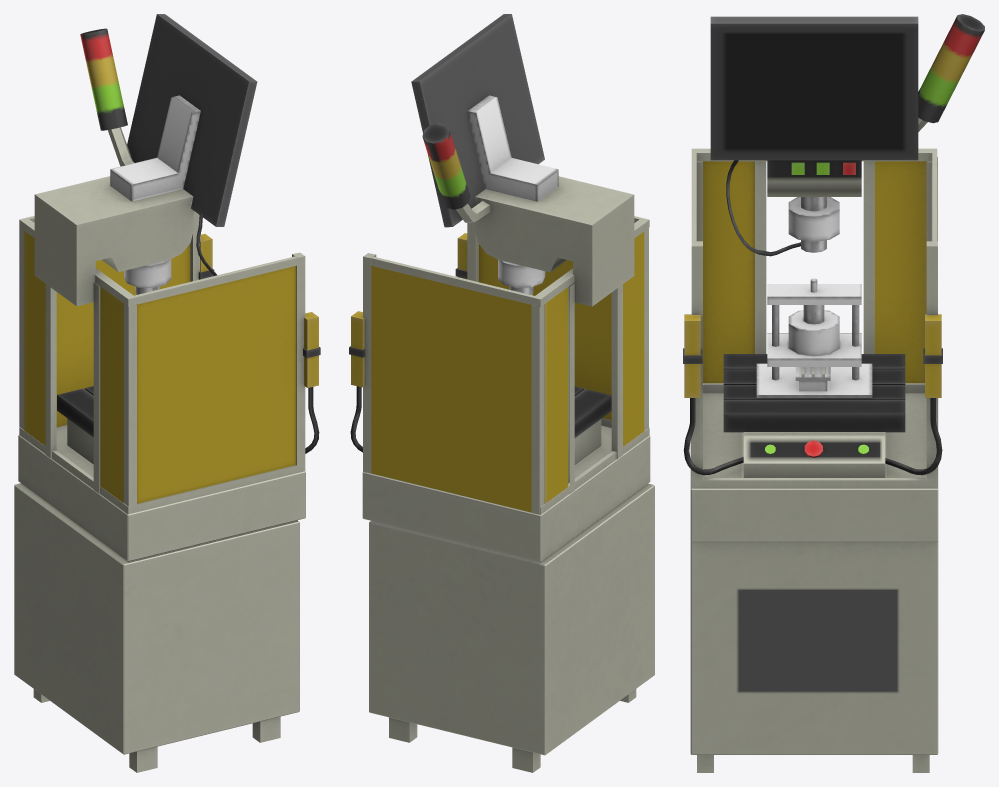
The model's file is zhouchengyazhuangji.fbx.
The picture shows the model from 3 angles, left to right: view 1: azimuth 30°, elevation 25°; view 2: azimuth 150°, elevation 25°; view 3: azimuth 270°, elevation 25°; orthographic projection. The views are drawn at different scales.
Visible parts, largest first — view 1: zhouchengyazhuangji; view 2: zhouchengyazhuangji; view 3: zhouchengyazhuangji.
Boxes of the visible parts, box(x1,y1,x2,y2) form: zhouchengyazhuangji: box(14, 14, 320, 772); zhouchengyazhuangji: box(349, 14, 654, 772); zhouchengyazhuangji: box(683, 14, 984, 772).
Size of the model in its own units: 67.8 by 206 by 75.99.
